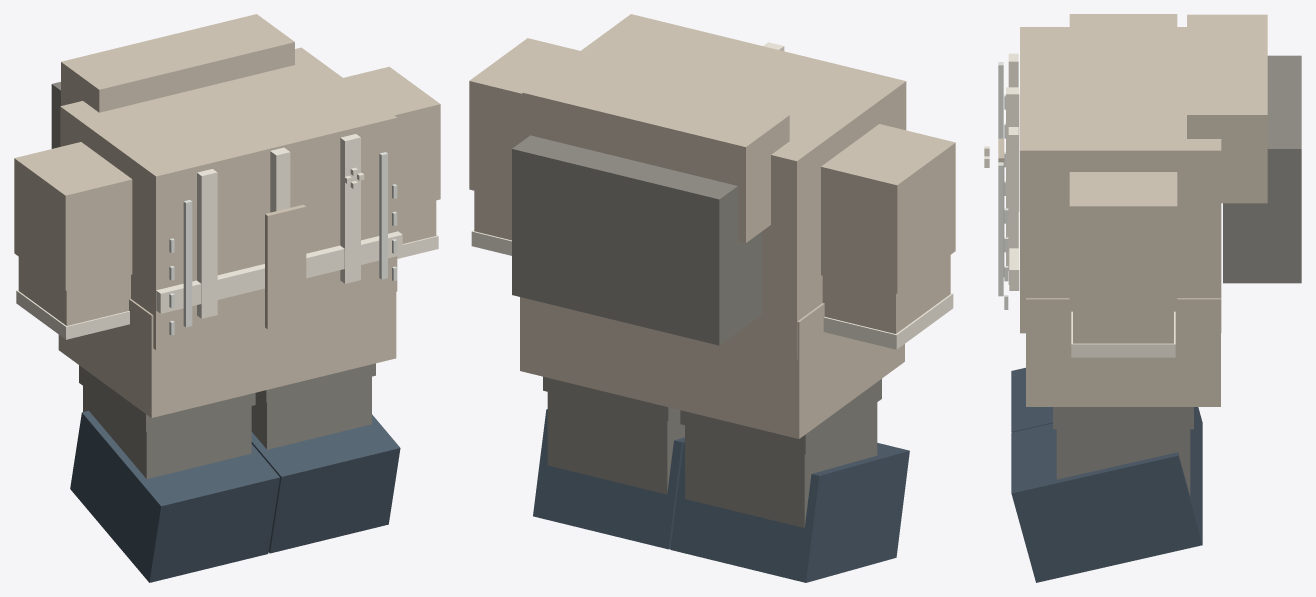
File: raincoat-sand.glb
3 views of the same model, side by side, from view 1: azimuth 30°, elevation 25°; view 2: azimuth 150°, elevation 25°; view 3: azimuth 270°, elevation 25° (orthographic). The views are drawn at different scales.
Visible parts, largest first — view 1: jacket, coat-tails, shoe-Right, upper-sleeve-Right, rain-hood, shoe-Left, lower-trouser-Right, upper-sleeve-Left, lower-trouser-Left, design-raincoat-storm-flap, lower-sleeve-Right, reflective-band (+11 smaller); view 2: backpack, jacket, coat-tails, rain-hood, upper-sleeve-Right, shoe-Right, lower-trouser-Right, lower-trouser-Left, shoe-Left, upper-sleeve-Left, lower-sleeve-Right, trouser-Right (+4 smaller); view 3: jacket, shoe-Left, coat-tails, upper-sleeve-Left, rain-hood, backpack, lower-trouser-Left, lower-sleeve-Left, trouser-Left, shoe-Right, cuff-Left, upper-sleeve-Right (+5 smaller).
Part boxes in pixels (x1,y1,x2,y2): jacket: (60, 47, 397, 350); coat-tails: (58, 292, 396, 417); shoe-Right: (70, 410, 279, 582); upper-sleeve-Right: (14, 142, 132, 290); rain-hood: (61, 14, 294, 112); shoe-Left: (251, 414, 400, 553); lower-trouser-Right: (83, 386, 251, 478); upper-sleeve-Left: (343, 66, 440, 209); lower-trouser-Left: (251, 376, 371, 449); design-raincoat-storm-flap: (265, 204, 306, 329); lower-sleeve-Right: (18, 257, 130, 325); reflective-band: (156, 231, 402, 313); backpack: (512, 135, 761, 345); jacket: (521, 14, 906, 359); coat-tails: (520, 297, 904, 438); rain-hood: (522, 60, 789, 242); upper-sleeve-Right: (821, 124, 955, 293); shoe-Right: (670, 442, 909, 582); lower-trouser-Right: (685, 402, 877, 527); lower-trouser-Left: (547, 392, 684, 494); shoe-Left: (533, 409, 684, 549); upper-sleeve-Left: (469, 38, 579, 199); lower-sleeve-Right: (822, 255, 950, 333); trouser-Right: (680, 379, 881, 454); jacket: (1020, 27, 1221, 333); shoe-Left: (1011, 423, 1202, 582); coat-tails: (1026, 298, 1220, 406); upper-sleeve-Left: (1069, 172, 1177, 305); rain-hood: (1187, 14, 1267, 203); backpack: (1223, 55, 1301, 283); lower-trouser-Left: (1056, 429, 1190, 495); lower-sleeve-Left: (1073, 306, 1173, 343); trouser-Left: (1053, 407, 1193, 429); shoe-Right: (1011, 367, 1202, 483); cuff-Left: (1071, 311, 1175, 357); upper-sleeve-Right: (1069, 14, 1177, 26).
Size of the model in its own units: 1.07 by 1.19 by 0.748.
